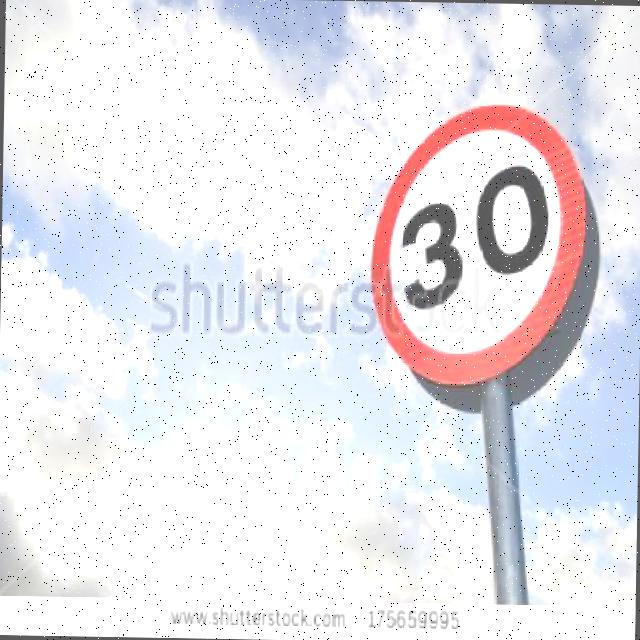Ograniczenie predkosci do 30: (367, 102, 587, 389)
